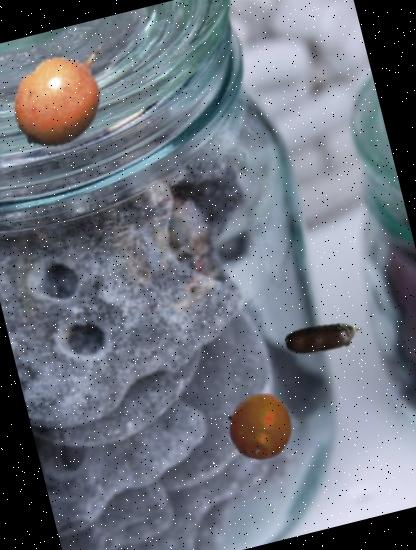Eggplant: (275, 290, 372, 386)
Granadilla: (0, 20, 141, 169)
Tangelo: (218, 384, 301, 469)
